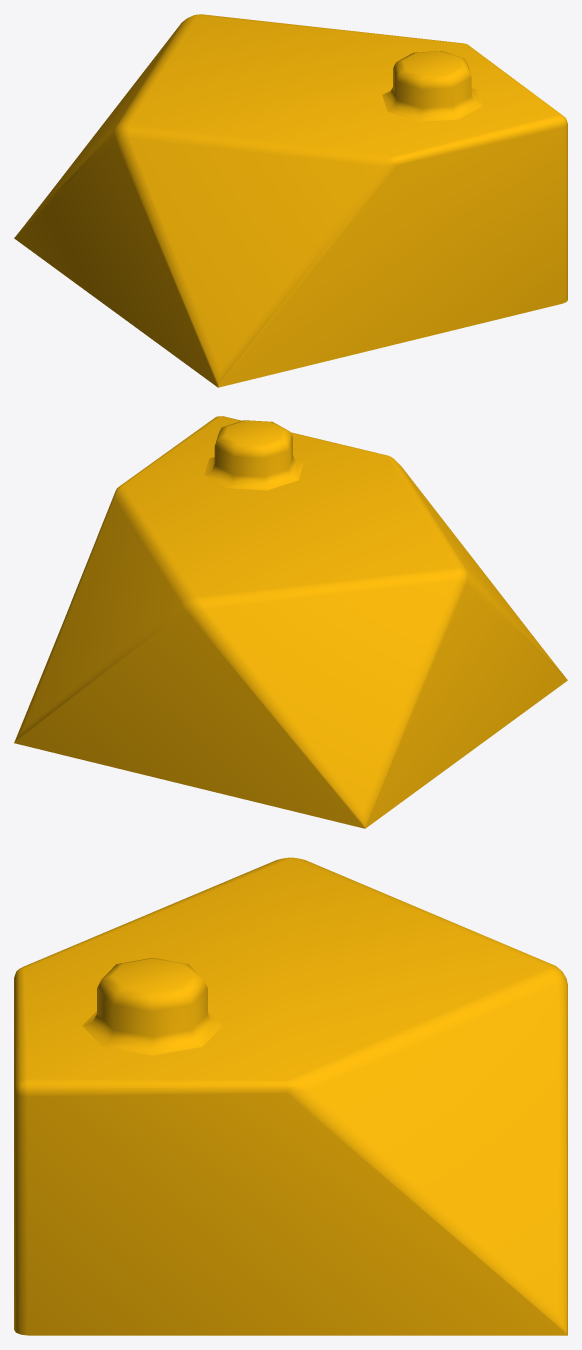
The model's file is Bevel_Three_Vertex_Half.fbx.
3 renders of one model, top to bottom at view 1: azimuth 30°, elevation 25°; view 2: azimuth 150°, elevation 25°; view 3: azimuth 270°, elevation 25°, orthographic. The views are drawn at different scales.
Visible parts, largest first — view 1: Bevel_Three_Vertex_Half, Knobs.018; view 2: Bevel_Three_Vertex_Half, Knobs.018; view 3: Bevel_Three_Vertex_Half, Knobs.018.
Part boxes in pixels (bbox=[...]): Bevel_Three_Vertex_Half: bbox=[14, 14, 567, 387]; Knobs.018: bbox=[382, 51, 481, 121]; Bevel_Three_Vertex_Half: bbox=[14, 416, 567, 828]; Knobs.018: bbox=[204, 420, 303, 490]; Bevel_Three_Vertex_Half: bbox=[14, 857, 567, 1335]; Knobs.018: bbox=[82, 958, 222, 1055].
Size of the model in its own units: 1 by 0.6 by 1.
